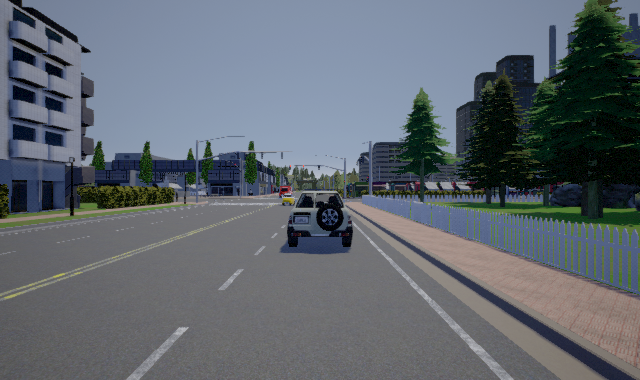vehicle: (279, 186, 353, 247)
